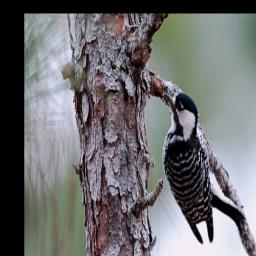Woodpecker: (159, 86, 246, 245)
